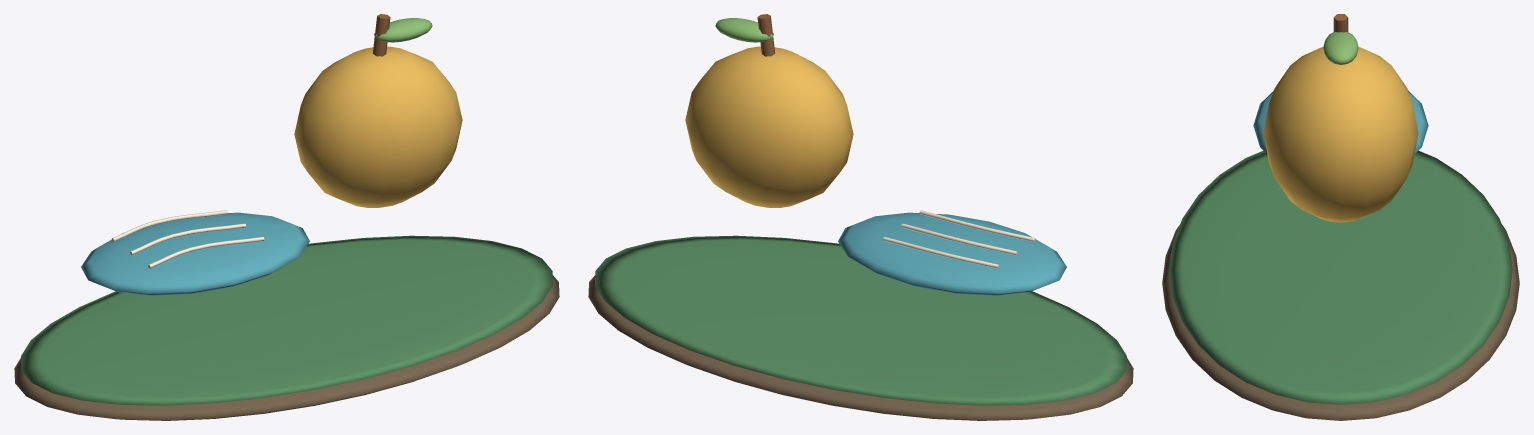
The model's file is water-fruit.glb.
3 views of the same model, side by side, from view 1: azimuth 30°, elevation 25°; view 2: azimuth 150°, elevation 25°; view 3: azimuth 270°, elevation 25° (orthographic). The views are drawn at different scales.
Visible parts, largest first — view 1: water-fruit_surface_01, water-fruit_surface_04, water-fruit_surface_02, water-fruit_surface_00, water-fruit_surface_03, water-fruit_surface_06, water-fruit_surface_05; view 2: water-fruit_surface_01, water-fruit_surface_04, water-fruit_surface_02, water-fruit_surface_00, water-fruit_surface_03, water-fruit_surface_06, water-fruit_surface_05; view 3: water-fruit_surface_01, water-fruit_surface_04, water-fruit_surface_00, water-fruit_surface_02, water-fruit_surface_06.
Part boxes in pixels (x1,y1,x2,y2): water-fruit_surface_01: (21, 235, 552, 405); water-fruit_surface_04: (294, 46, 462, 207); water-fruit_surface_02: (81, 212, 309, 295); water-fruit_surface_00: (14, 275, 559, 420); water-fruit_surface_03: (111, 210, 264, 268); water-fruit_surface_06: (374, 18, 432, 42); water-fruit_surface_05: (372, 14, 390, 56); water-fruit_surface_01: (595, 235, 1126, 405); water-fruit_surface_04: (685, 46, 853, 207); water-fruit_surface_02: (838, 212, 1066, 295); water-fruit_surface_00: (588, 275, 1133, 420); water-fruit_surface_03: (883, 210, 1035, 268); water-fruit_surface_06: (715, 18, 773, 42); water-fruit_surface_05: (757, 14, 775, 56); water-fruit_surface_01: (1169, 150, 1512, 404); water-fruit_surface_04: (1263, 47, 1418, 222); water-fruit_surface_00: (1162, 225, 1519, 420); water-fruit_surface_02: (1253, 90, 1428, 153); water-fruit_surface_06: (1323, 32, 1358, 64).
Bounding box in the file's own units: 4.56 × 2.58 × 2.5.
